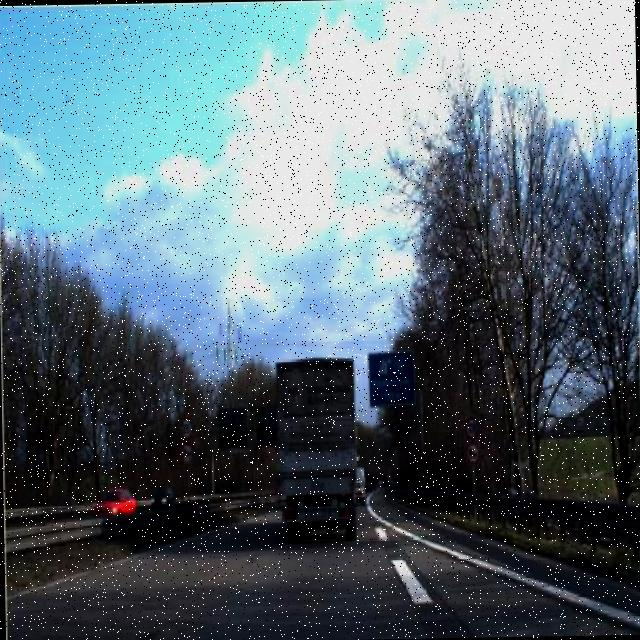Ograniczenie predkosci do 120: (463, 416, 482, 441), (178, 415, 195, 441)
Zakaz wyprzedzania: (178, 441, 196, 470), (464, 440, 483, 466)
